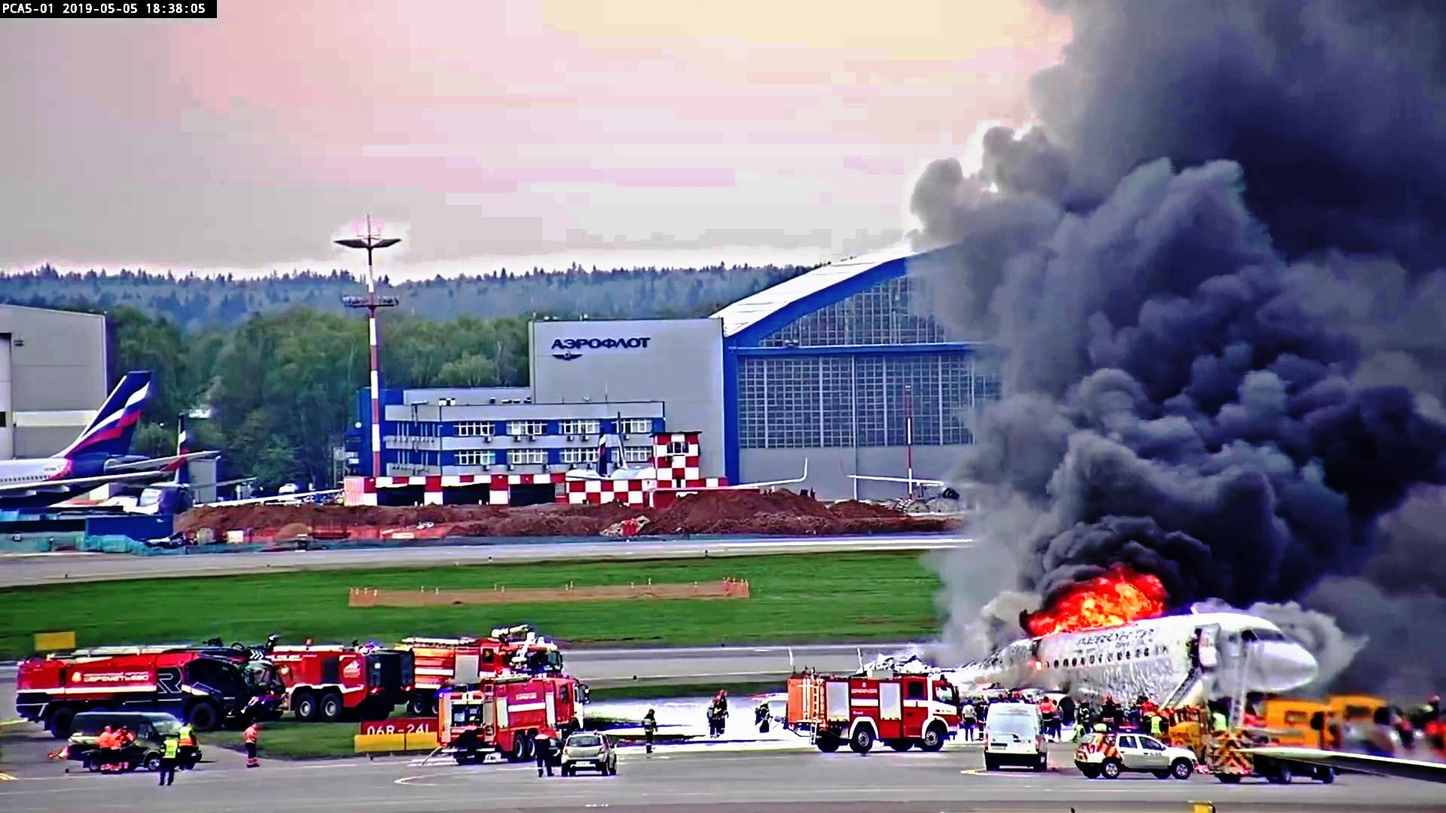fire: (1031, 574, 1164, 634)
smoke: (962, 162, 1377, 589)
